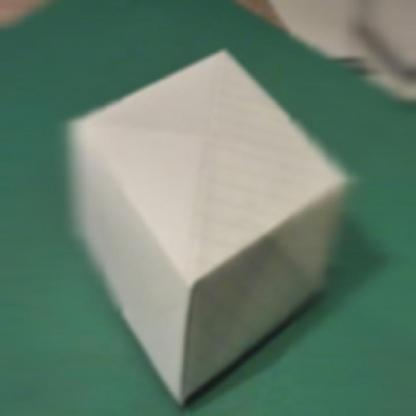-: (69, 54, 351, 406)
